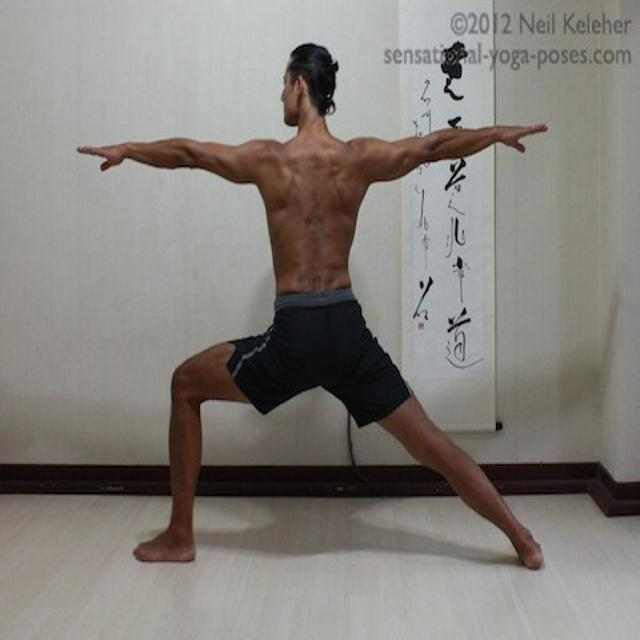Warrior_II: (74, 41, 549, 575)
